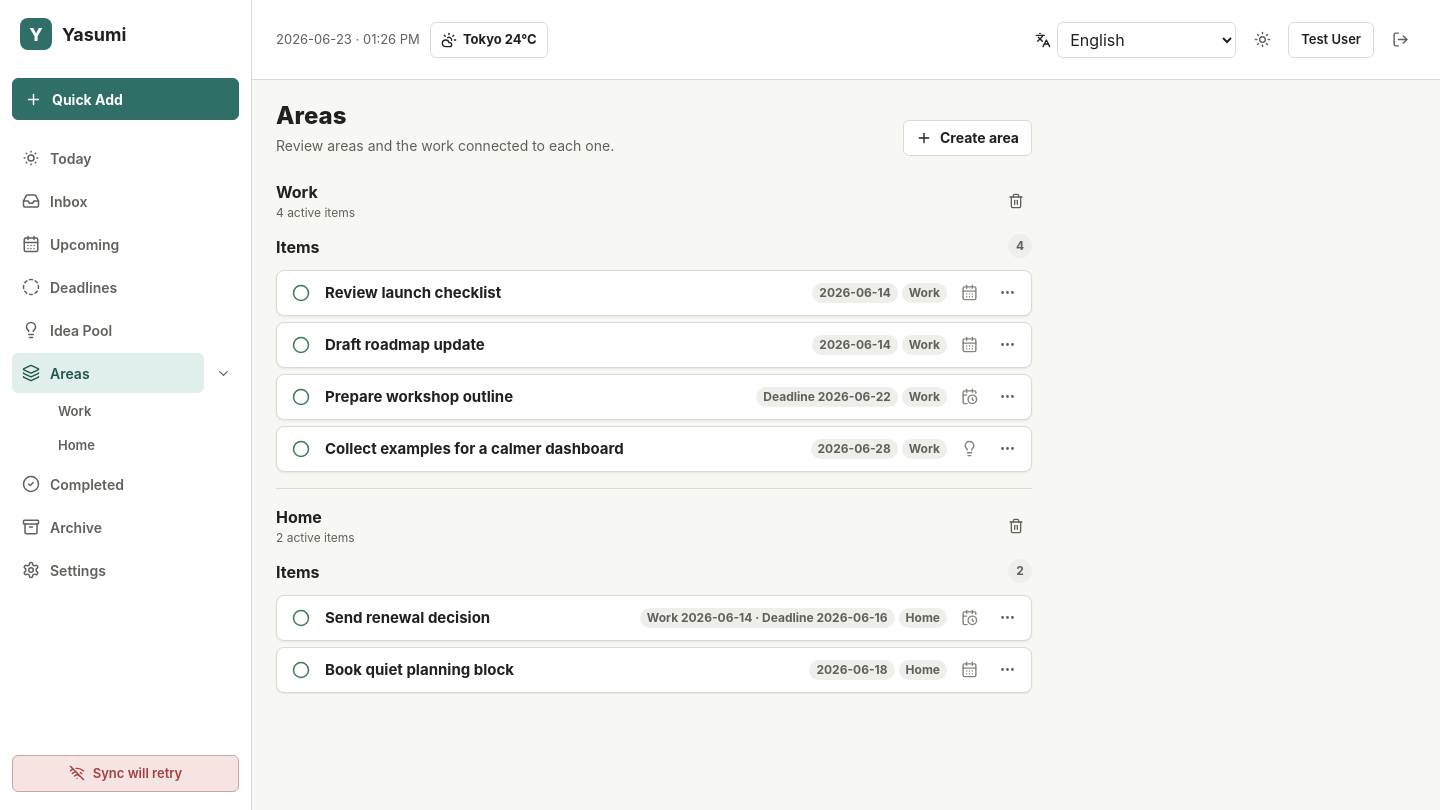
Test: phase 04 pages and action surfaces › creates a new area with Enter
This screenshot has width=1440, height=810.
Expected: the heading "Areas" is shown, [276,101,346,130]
Click the button "Create area": (967, 138) [903,120,1032,156]
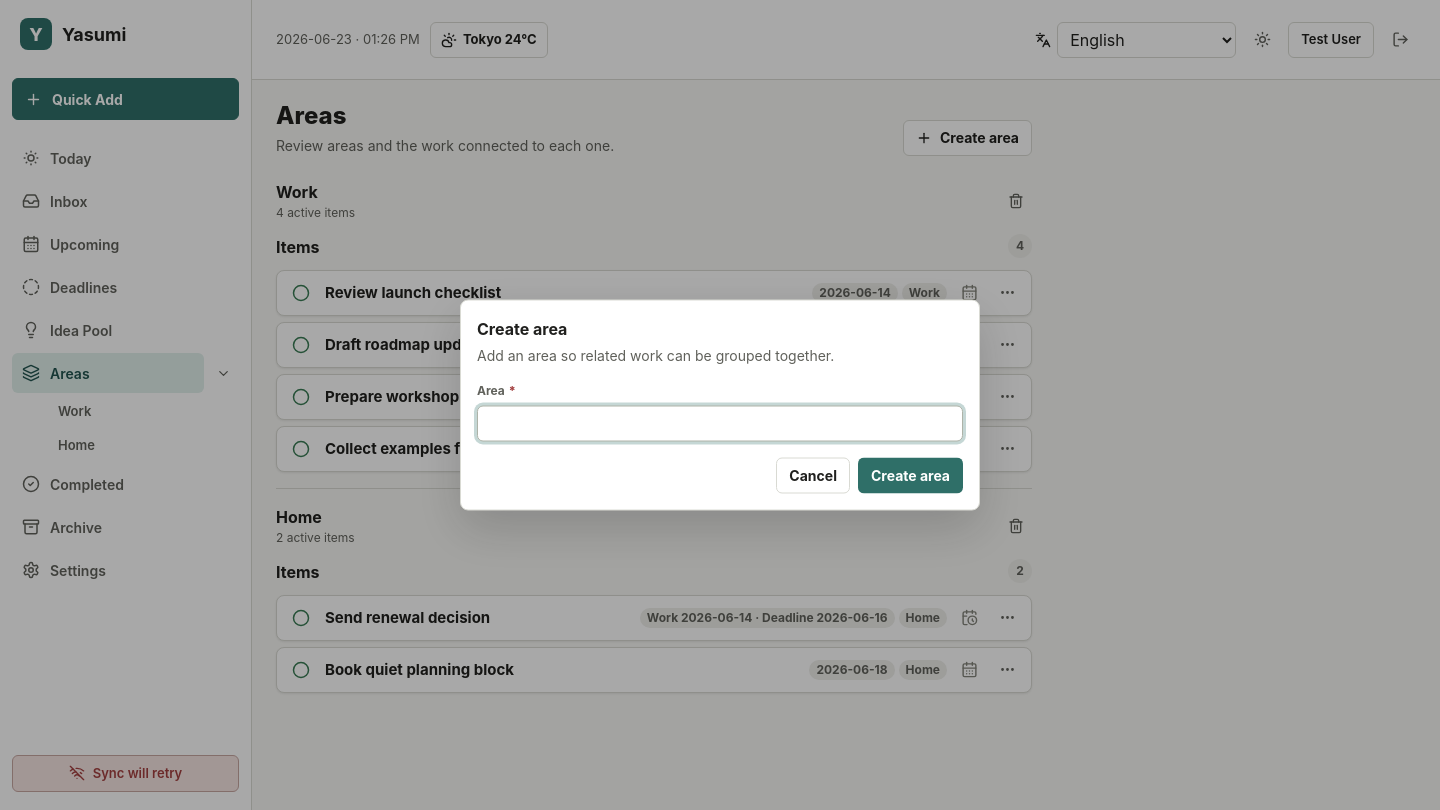
In the field labelled "Area *": (720, 424) [477,406,963,442], type "Reading"
Then press Enter
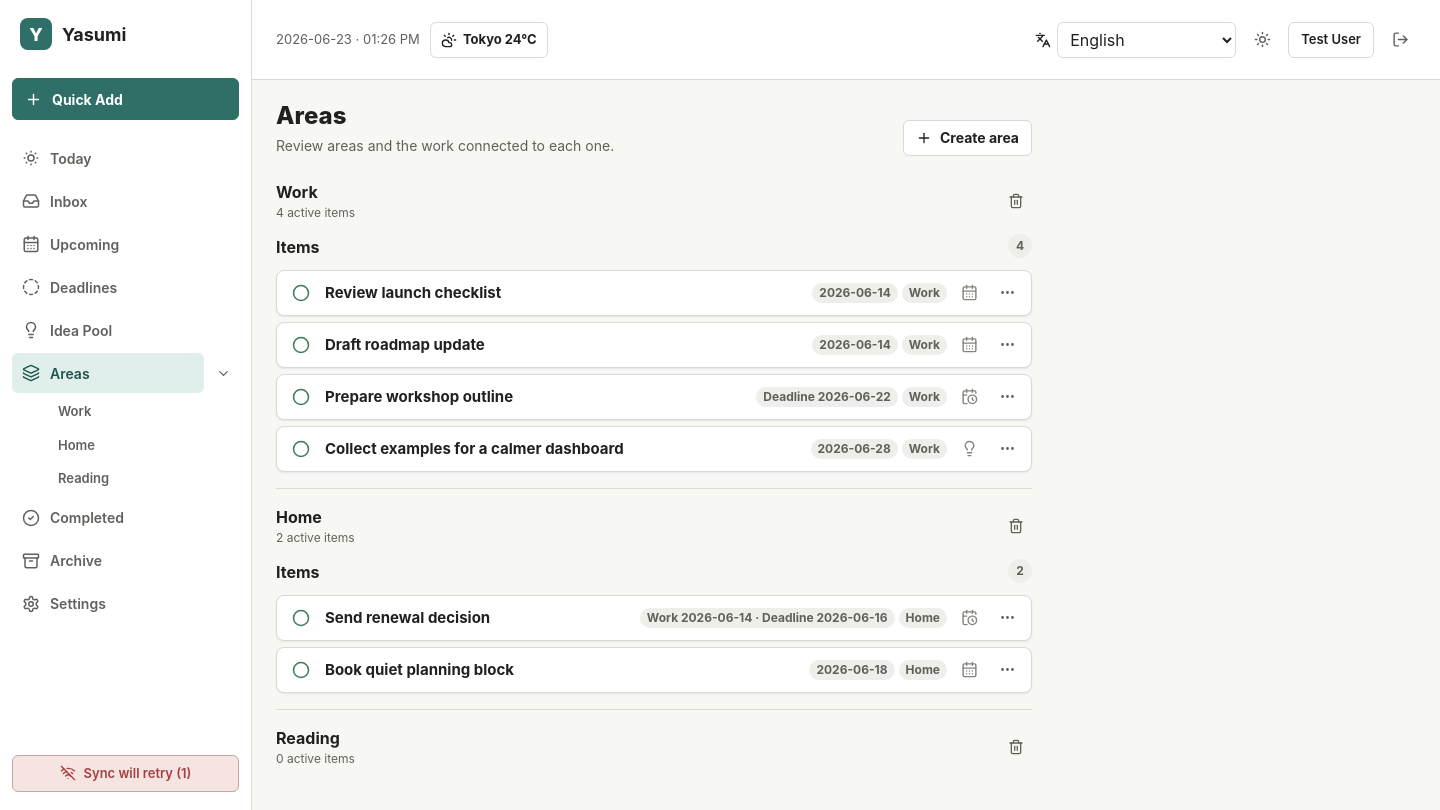
Now the heading "Reading" is shown, box [276,728,340,748]
